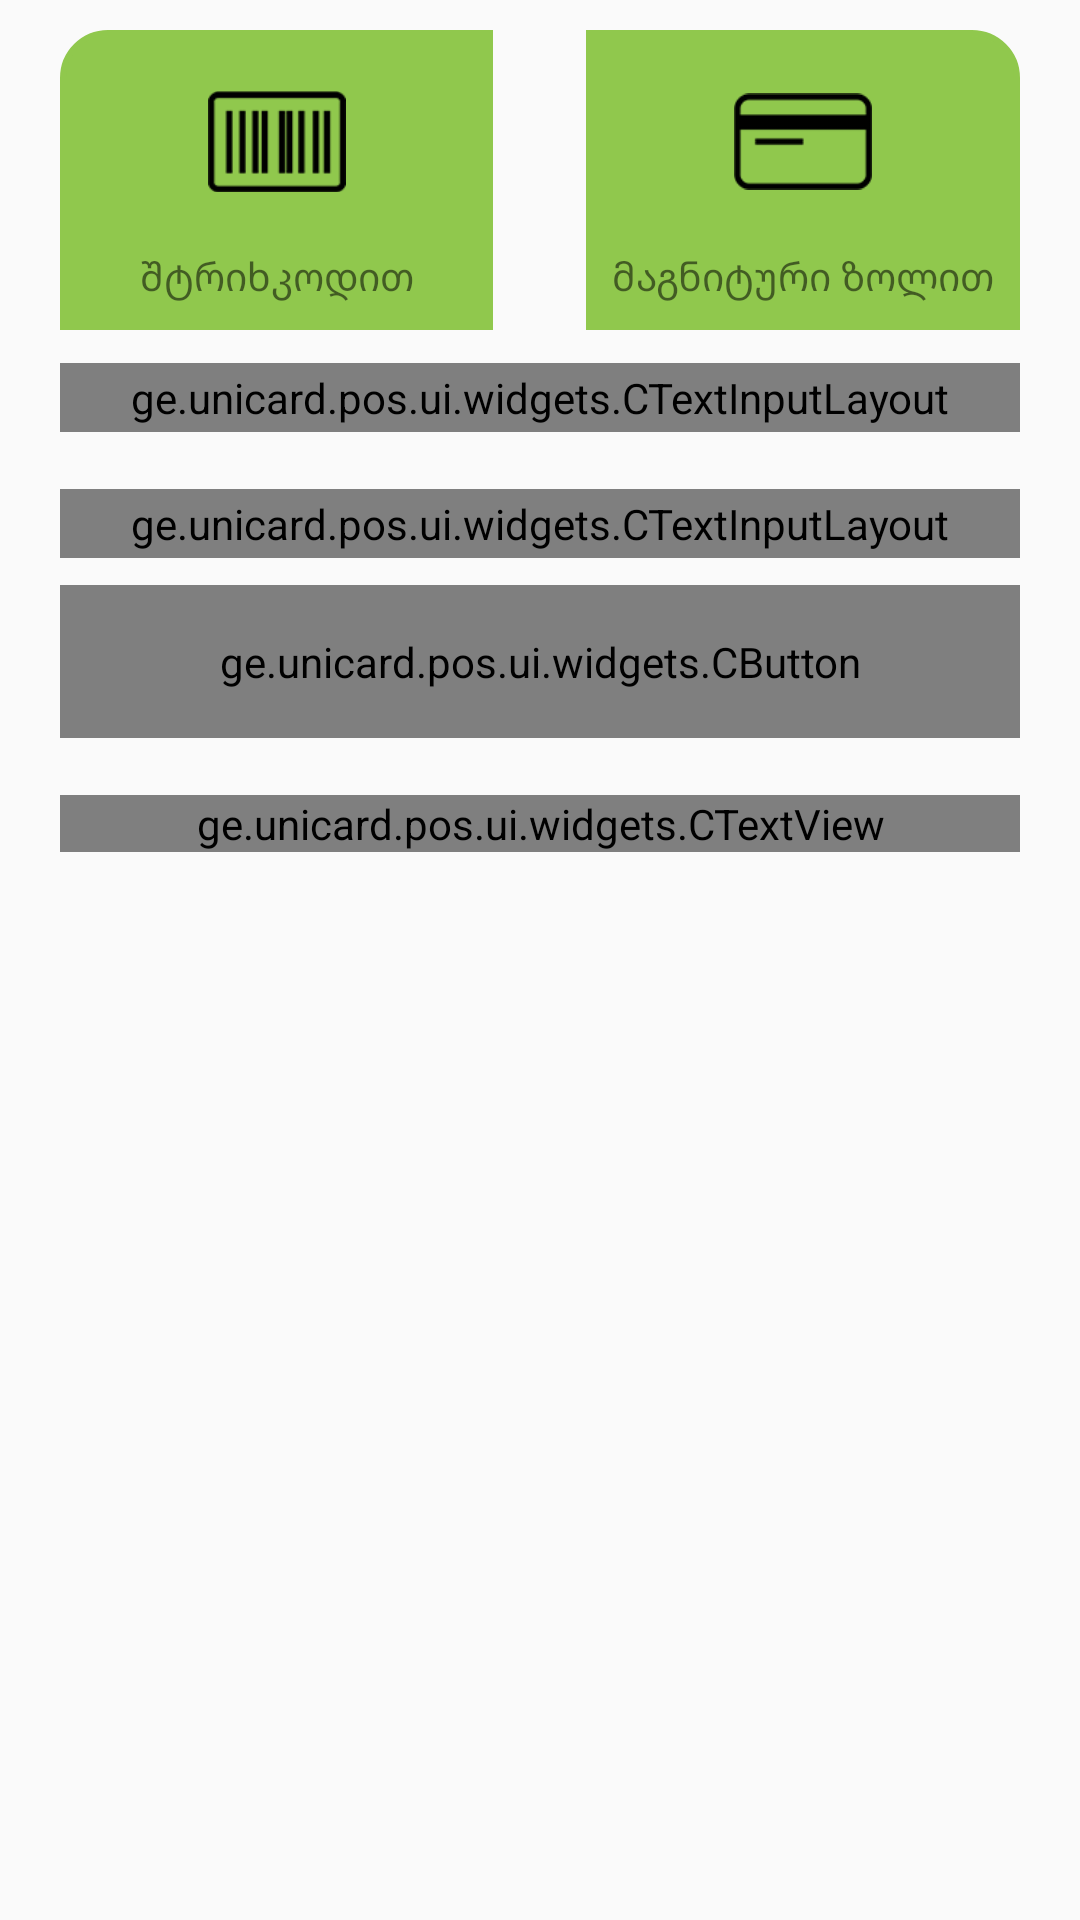

Screen size 1080x1920. Icon name, then its center in pixels as point (x, y):
withcard: point (803, 141)
withqr: point (277, 141)
